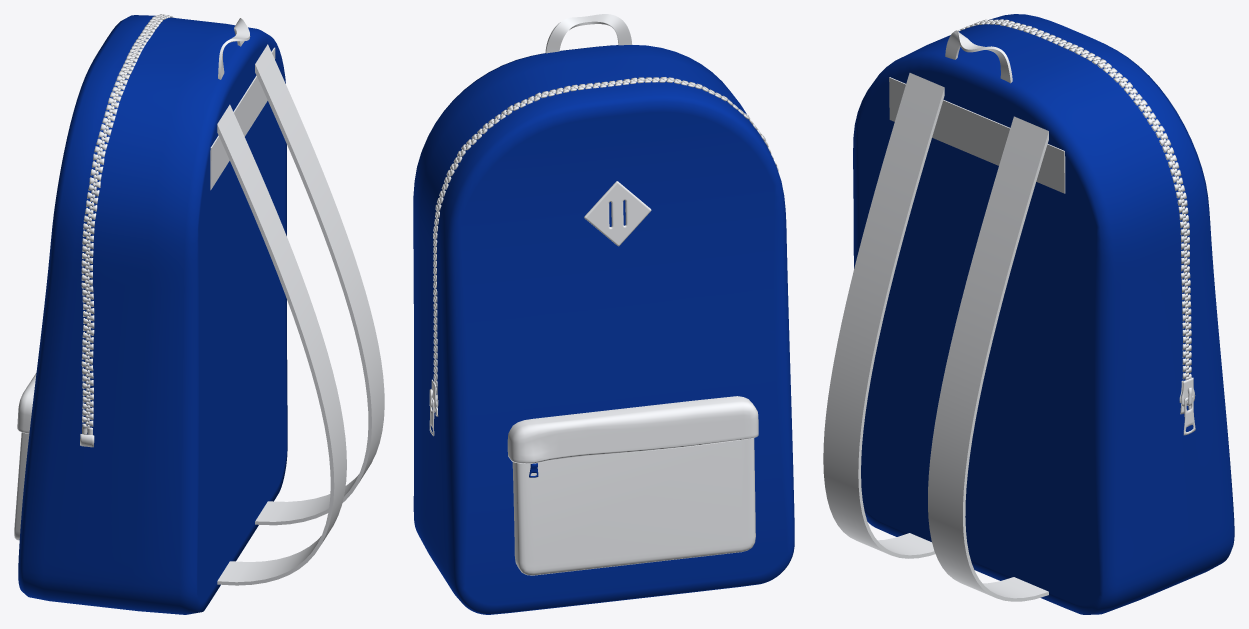
Rendered from mochila_cerrada.FBX.
3 views of the same model, side by side, from view 1: azimuth 30°, elevation 25°; view 2: azimuth 150°, elevation 25°; view 3: azimuth 270°, elevation 25° (orthographic). The views are drawn at different scales.
Parts seen in each view (by area): view 1: base, asa2, asa1, cremalleracerrada, Box001, bolsilloext, asasup; view 2: base, bolsilloext, cremalleracerrada, etiqueta, asasup; view 3: base, asa2, asa1, Box001, cremalleracerrada, asasup, mochila.
Boxes of the visible parts, left/top/right/bottom form: base: left=18, top=15, right=287, bottom=614; asa2: left=217, top=104, right=346, bottom=585; asa1: left=255, top=44, right=384, bottom=525; cremalleracerrada: left=81, top=14, right=174, bottom=419; Box001: left=210, top=47, right=275, bottom=190; bolsilloext: left=14, top=372, right=36, bottom=540; asasup: left=218, top=18, right=250, bottom=79; base: left=413, top=45, right=794, bottom=614; bolsilloext: left=507, top=396, right=758, bottom=575; cremalleracerrada: left=433, top=77, right=778, bottom=393; etiqueta: left=584, top=181, right=651, bottom=246; asasup: left=545, top=14, right=631, bottom=53; base: left=853, top=14, right=1234, bottom=614; asa2: left=823, top=73, right=944, bottom=558; asa1: left=928, top=116, right=1048, bottom=601; Box001: left=889, top=77, right=1065, bottom=193; cremalleracerrada: left=957, top=19, right=1191, bottom=380; asasup: left=945, top=30, right=1012, bottom=83; mochila: left=1179, top=377, right=1195, bottom=435.
Bounding box in the file's own units: 33.49 × 47.62 × 33.21.
